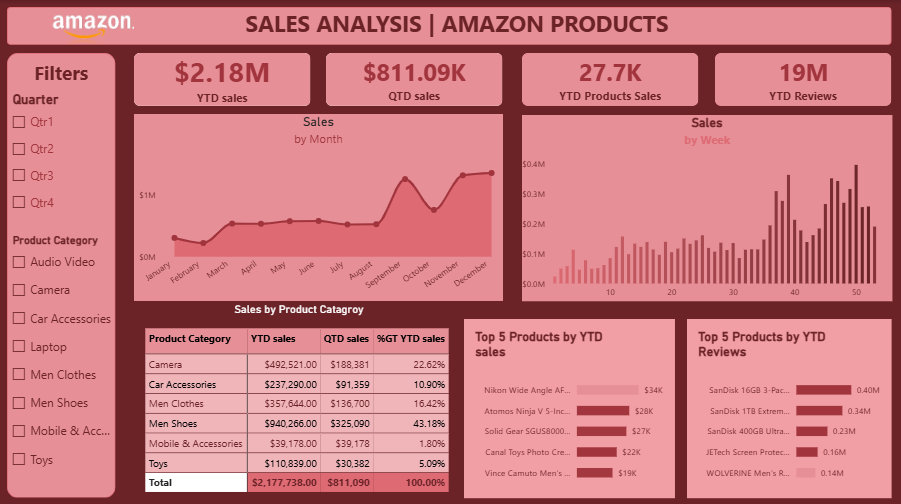

The dashboard page shown, as its layout file describes it:
{"tool":"powerbi","page":{"name":"Page 1","canvas":[1280,720],"ordinal":0},"visuals":[{"type":"shape","box":[10.1,75.4,153.6,630.4],"z":0},{"type":"cardVisual","fields":{"Data":["Amazon_Data.YTD sales"]},"box":[189.9,75.4,250.7,75.4],"z":0,"group":"g1"},{"type":"areaChart","title":"Sales","fields":{"Category":["Date Table.Month Name"],"Y":["Sum(Amazon_Data.Price(Dollar))"]},"box":[189.9,160.9,523.2,265.2],"z":0,"group":"g2"},{"type":"shape","box":[10.1,10.1,1253.6,53.6],"z":1000},{"type":"cardVisual","fields":{"Data":["Amazon_Data.QTD sales"]},"box":[462.4,75.4,250.7,75.4],"z":1000,"group":"g1"},{"type":"columnChart","title":"Sales","fields":{"Category":["Date Table.Week"],"Y":["Sum(Amazon_Data.Price(Dollar))"]},"box":[739.4,162.5,524.6,263.8],"z":1000,"group":"g2"},{"type":"textbox","box":[236.2,10.1,821.7,65.2],"z":2000},{"type":"cardVisual","fields":{"Data":["Amazon_Data.YTD Products Sales"]},"box":[739.2,75.4,250.7,75.4],"z":2000,"group":"g1"},{"type":"group","id":"g1","title":"Group 1","box":[189.9,75.4,1073.9,75.4],"z":3000},{"type":"cardVisual","fields":{"Data":["Amazon_Data.YTD Reviews"]},"box":[1013.1,75.4,250.7,75.4],"z":3000,"group":"g1"},{"type":"pivotTable","title":"Sales by Product Catagroy","fields":{"Rows":["Amazon_Data.Product Category"],"Values":["Amazon_Data.YTD sales1","Amazon_Data.QTD sales","Amazon_Data.YTD sales"]},"box":[189.9,415.9,468.1,304.3],"z":4000},{"type":"group","id":"g2","title":"Group 2","box":[189.9,160.9,1074.1,265.4],"z":5000},{"type":"clusteredBarChart","title":"Top 5 Products by YTD sales","fields":{"Category":["Amazon_Data.Product Description"],"Y":["Amazon_Data.YTD sales"]},"box":[658,452.2,298.6,253.6],"z":6000},{"type":"clusteredBarChart","title":"Top 5 Products by YTD Reviews","fields":{"Category":["Amazon_Data.Product Description"],"Y":["Amazon_Data.YTD Reviews"]},"box":[973.9,452.2,289.9,253.6],"z":7000},{"type":"slicer","fields":{"Values":["Amazon_Data.Product Category"]},"box":[10.1,330.4,153.6,356.5],"z":8000},{"type":"slicer","fields":{"Values":["Date Table.Quarter"]},"box":[10.1,129,153.6,201.4],"z":9000},{"type":"textbox","box":[10.1,85.5,153.6,43.5],"z":10000},{"type":"image","box":[10.1,11.6,242,52.2],"z":11000}]}

Visuals, with their boxes in screenshot pixels (x1, y1, x2, y2), scaled from the page's 1280x720 canvas onto the 901x504 screenshot:
shape: <bbox>7, 53, 115, 494</bbox>
cardVisual - Amazon_Data.YTD sales: <bbox>134, 53, 310, 106</bbox>
"Sales" areaChart: <bbox>134, 113, 502, 298</bbox>
shape: <bbox>7, 7, 890, 45</bbox>
cardVisual - Amazon_Data.QTD sales: <bbox>325, 53, 502, 106</bbox>
"Sales" columnChart: <bbox>520, 114, 890, 298</bbox>
textbox: <bbox>166, 7, 745, 53</bbox>
cardVisual - Amazon_Data.YTD Products Sales: <bbox>520, 53, 697, 106</bbox>
"Group 1" group: <bbox>134, 53, 890, 106</bbox>
cardVisual - Amazon_Data.YTD Reviews: <bbox>713, 53, 890, 106</bbox>
"Sales by Product Catagroy" pivotTable: <bbox>134, 291, 463, 503</bbox>
"Group 2" group: <bbox>134, 113, 890, 298</bbox>
"Top 5 Products by YTD sales" clusteredBarChart: <bbox>463, 317, 673, 494</bbox>
"Top 5 Products by YTD Reviews" clusteredBarChart: <bbox>686, 317, 890, 494</bbox>
slicer - Amazon_Data.Product Category: <bbox>7, 231, 115, 481</bbox>
slicer - Date Table.Quarter: <bbox>7, 90, 115, 231</bbox>
textbox: <bbox>7, 60, 115, 90</bbox>
image: <bbox>7, 8, 177, 45</bbox>
